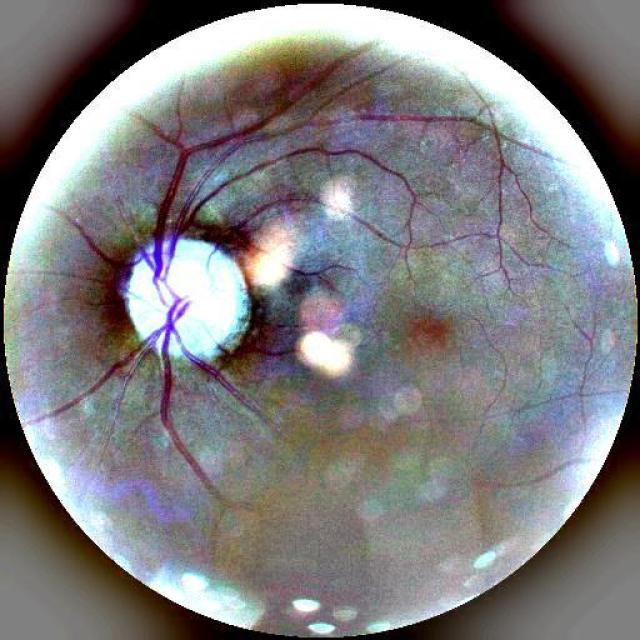Macula: (414, 320, 448, 346)
Nerves: (32, 41, 392, 514)
Optic Disk: (121, 236, 249, 362)
